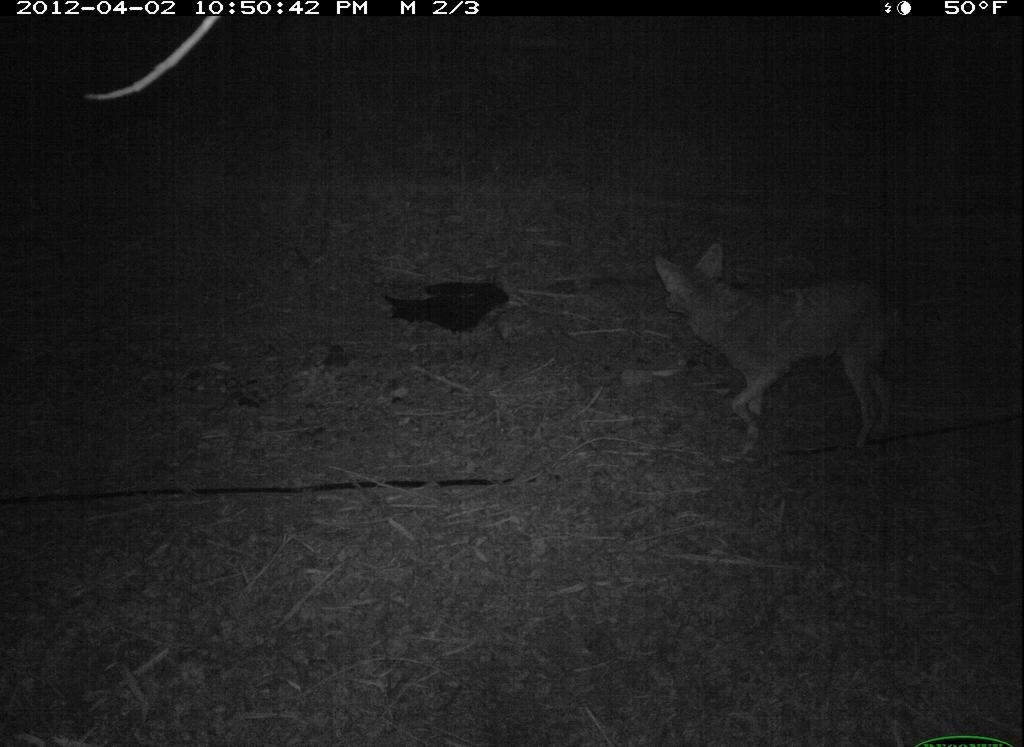coyote: (638, 233, 925, 463)
